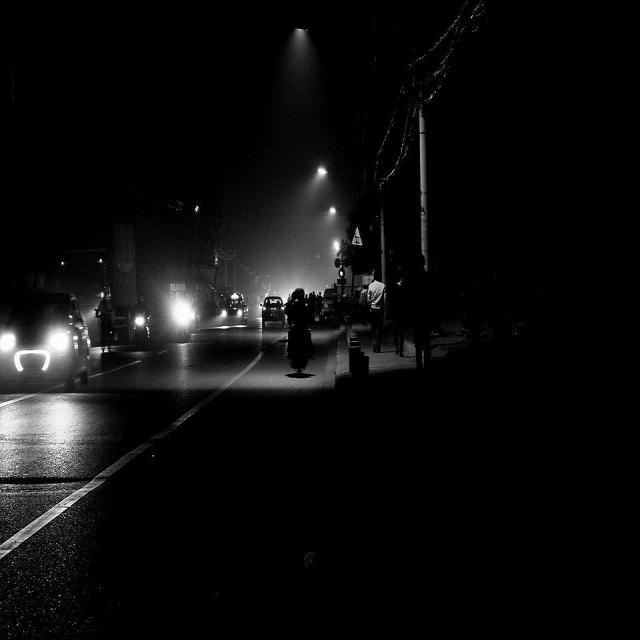Motorbike: (285, 314, 315, 387), (130, 313, 165, 349)
People: (405, 244, 447, 364), (367, 264, 391, 354), (390, 254, 407, 361), (288, 279, 314, 344), (94, 282, 120, 344)
car: (10, 287, 99, 404), (260, 292, 286, 330), (221, 292, 250, 324)
